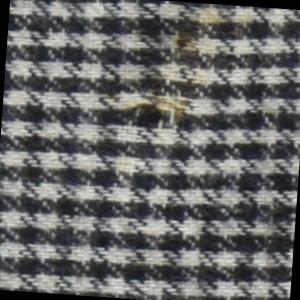Oil Stain: (105, 1, 259, 146)
